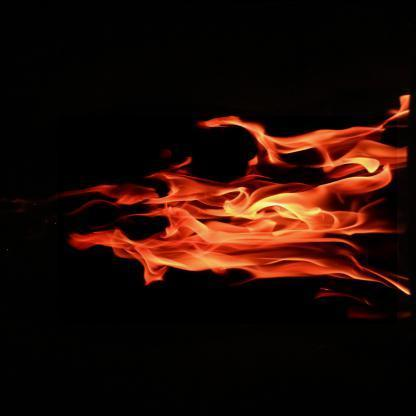Fire: (63, 90, 416, 309)
